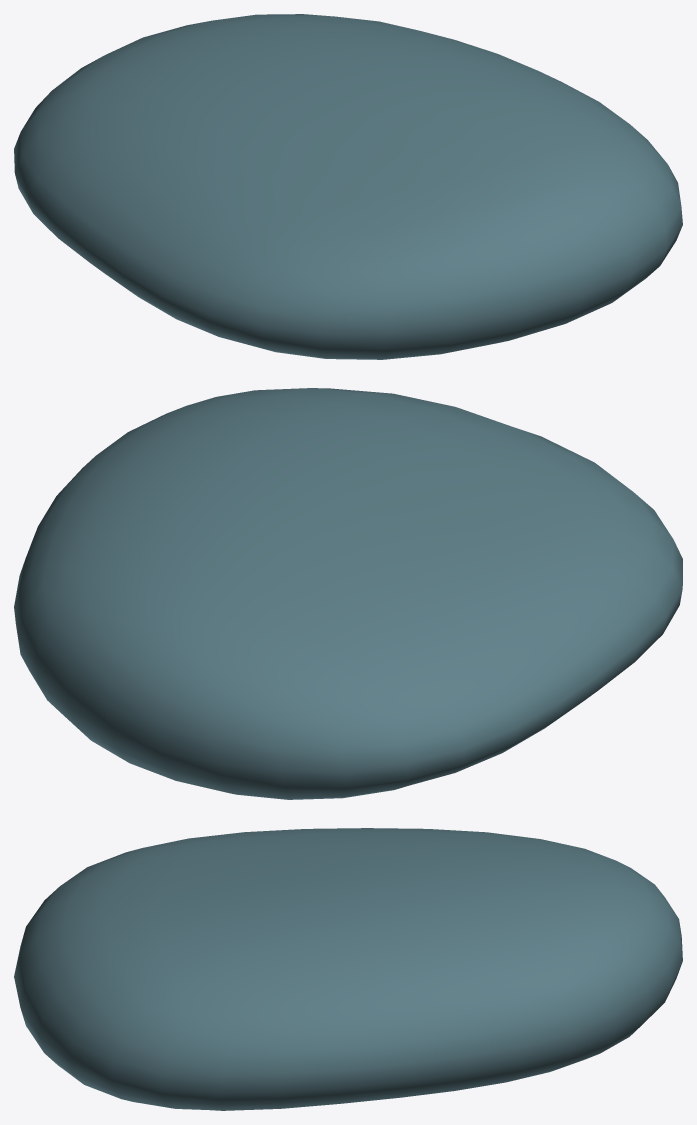
The model's file is Rock_B_02.fbx.
The picture shows the model from 3 angles, top to bottom: view 1: azimuth 30°, elevation 25°; view 2: azimuth 150°, elevation 25°; view 3: azimuth 270°, elevation 25°; orthographic projection. The views are drawn at different scales.
Visible parts, largest first — view 1: Rock_B_02_LOD0; view 2: Rock_B_02_LOD0; view 3: Rock_B_02_LOD0.
Boxes of the visible parts, x1,y1,x2,y2 form: Rock_B_02_LOD0: [14, 14, 682, 359]; Rock_B_02_LOD0: [14, 388, 682, 799]; Rock_B_02_LOD0: [14, 828, 682, 1110].
Size of what is drawn, in the model's own units: 335 by 98.53 by 389.
